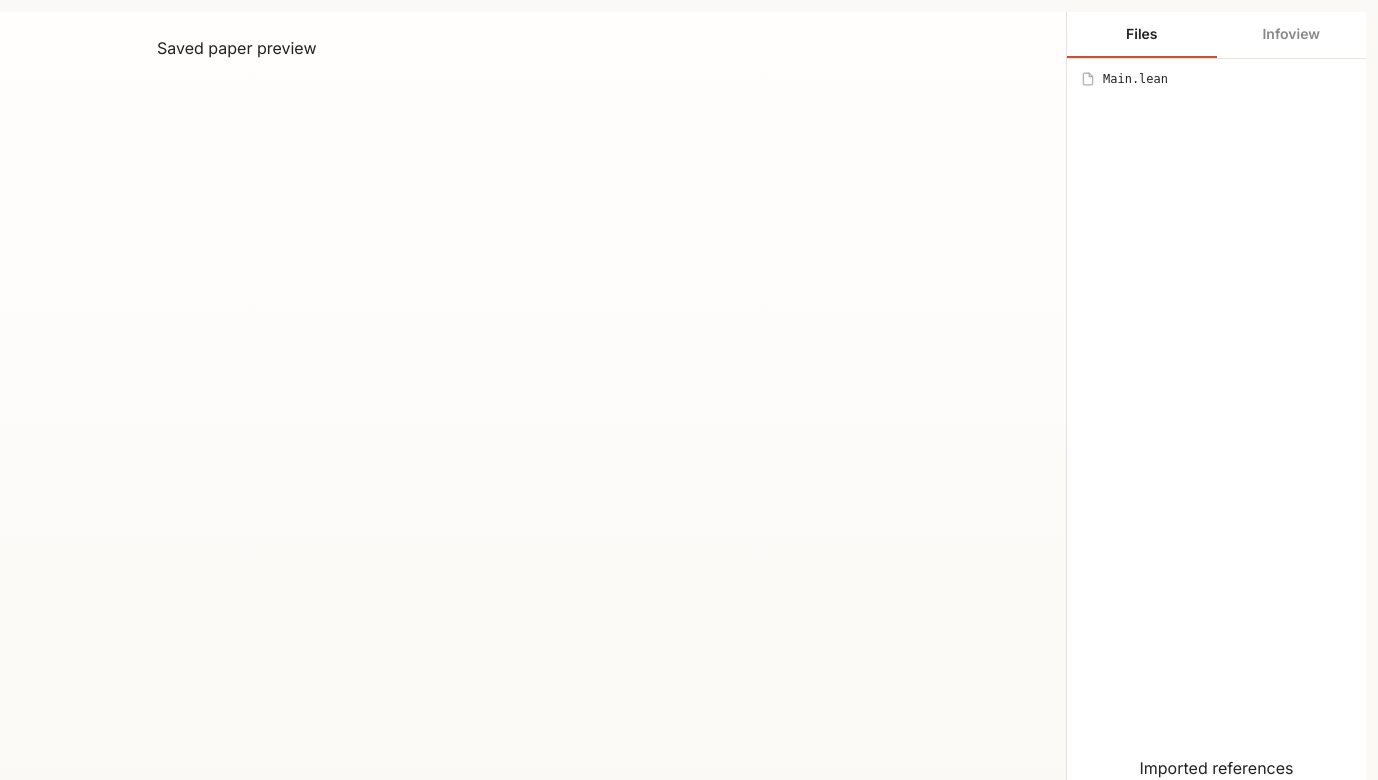
Test: Files workspace › keeps imported references in the same workspace without a second source panel
Expected: the text "Saved paper preview" is shown, [157,38,316,58]
Expected: the button "Imported references" is shown, [1067,756,1366,779]
Click the button "Infoview": (1291, 35) [1216,12,1366,58]
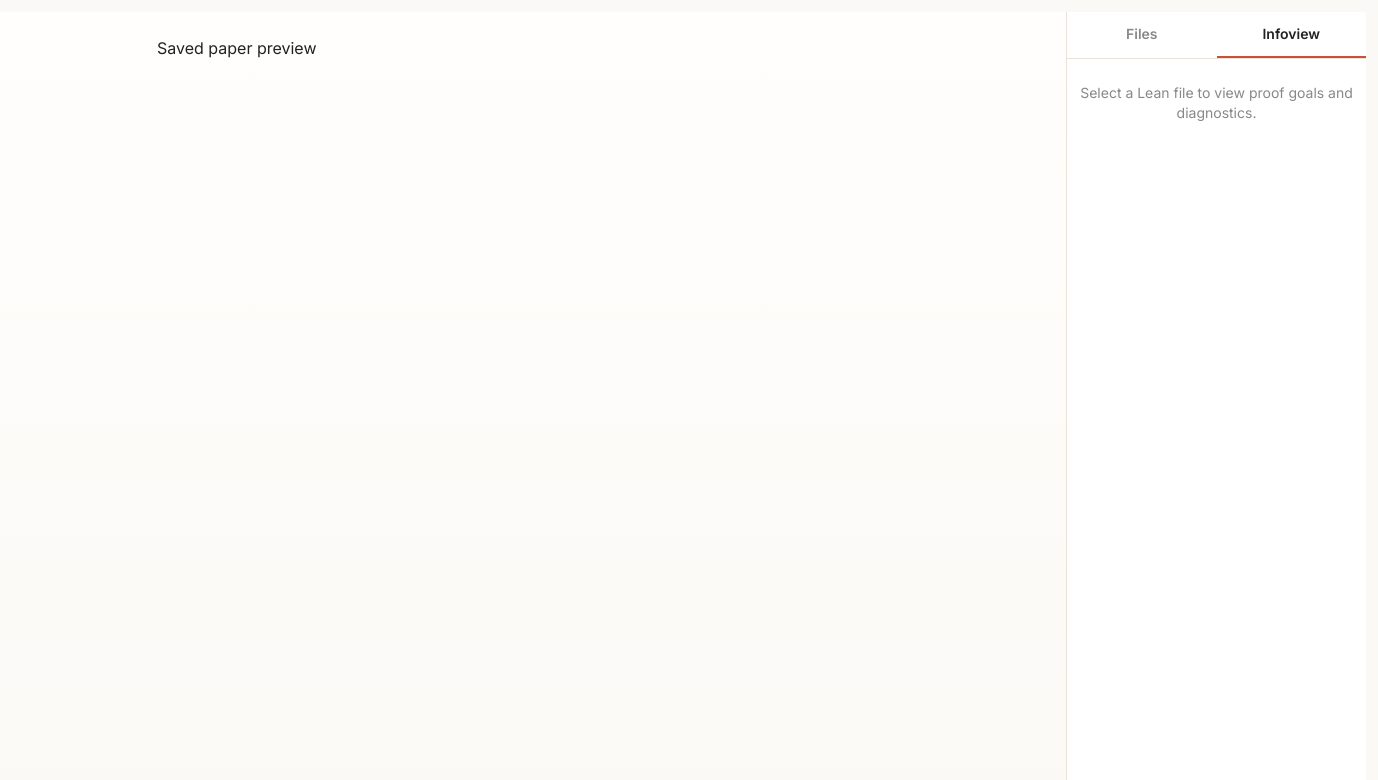
Now the text "Select a Lean file to view proof goals and diagnostics." is shown, box [1080,84,1353,121]
